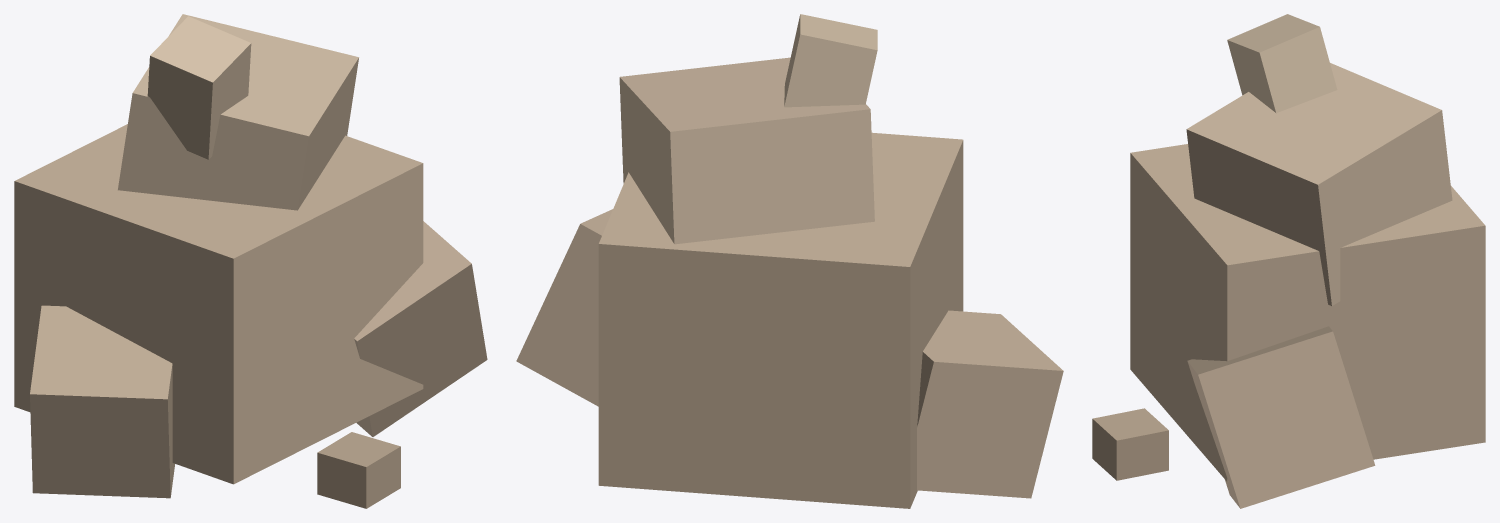
Rendered from EarthPunch.fbx.
The picture shows the model from 3 angles, left to right: view 1: azimuth 30°, elevation 25°; view 2: azimuth 150°, elevation 25°; view 3: azimuth 270°, elevation 25°; orthographic projection. The views are drawn at different scales.
Parts seen in each view (by area): view 1: Boulder_Core, Boulder_Top, Boulder_Side.001, Boulder_Side, Boulder_Spike, Boulder_Rubble; view 2: Boulder_Core, Boulder_Top, Boulder_Side.001, Boulder_Side, Boulder_Spike; view 3: Boulder_Core, Boulder_Top, Boulder_Side, Boulder_Spike, Boulder_Rubble.
Part boxes in pixels (x1=…): Boulder_Core: x1=14, y1=124, x2=423, y2=484; Boulder_Top: x1=118, y1=14, x2=358, y2=210; Boulder_Side.001: x1=30, y1=305, x2=174, y2=498; Boulder_Side: x1=354, y1=221, x2=487, y2=436; Boulder_Spike: x1=147, y1=16, x2=251, y2=159; Boulder_Rubble: x1=317, y1=432, x2=400, y2=508; Boulder_Core: x1=598, y1=132, x2=963, y2=508; Boulder_Top: x1=619, y1=57, x2=874, y2=244; Boulder_Side.001: x1=917, y1=310, x2=1063, y2=498; Boulder_Side: x1=516, y1=209, x2=612, y2=406; Boulder_Spike: x1=784, y1=14, x2=877, y2=107; Boulder_Core: x1=1130, y1=144, x2=1485, y2=481; Boulder_Top: x1=1186, y1=63, x2=1452, y2=305; Boulder_Side: x1=1187, y1=326, x2=1375, y2=508; Boulder_Spike: x1=1227, y1=14, x2=1337, y2=112; Boulder_Rubble: x1=1092, y1=408, x2=1168, y2=480.
Size of the model in its own units: 322 by 282 by 248.
